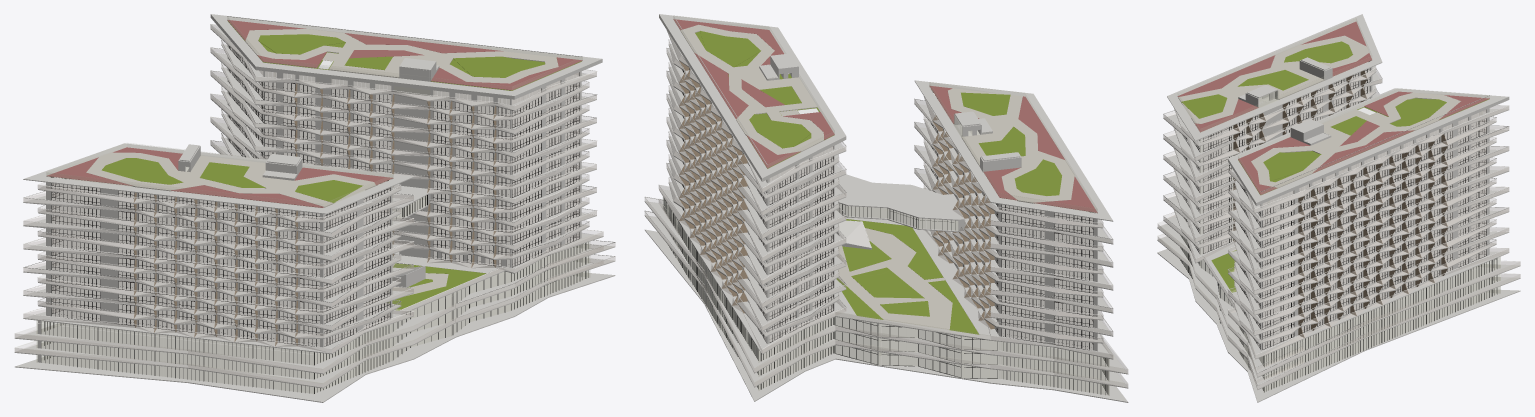
Rendered from rixos_Import3DFiles_Project_CopyFeatures.glb.
3 renders of one model, left to right at view 1: azimuth 30°, elevation 25°; view 2: azimuth 150°, elevation 25°; view 3: azimuth 270°, elevation 25°, orthographic. The views are drawn at different scales.
Parts seen in each view (by area): view 1: mesh_material_from_multipatch_4, mesh_material_from_multipatch_13, mesh_material_from_multipatch, mesh_material_from_multipatch_7, mesh_material_from_multipatch_5, mesh_material_from_multipatch_11, mesh_material_from_multipatch_12, mesh_material_from_multipatch_2, mesh_material_from_multipatch_10, mesh_material_from_multipatch_9, mesh_material_from_multipatch_6, mesh_material_from_multipatch_1; view 2: mesh_material_from_multipatch_4, mesh_material_from_multipatch_13, mesh_material_from_multipatch_12, mesh_material_from_multipatch_5, mesh_material_from_multipatch_2, mesh_material_from_multipatch, mesh_material_from_multipatch_9, mesh_material_from_multipatch_11, mesh_material_from_multipatch_7, mesh_material_from_multipatch_6, mesh_material_from_multipatch_10, mesh_material_from_multipatch_1; view 3: mesh_material_from_multipatch_4, mesh_material_from_multipatch_13, mesh_material_from_multipatch, mesh_material_from_multipatch_9, mesh_material_from_multipatch_7, mesh_material_from_multipatch_12, mesh_material_from_multipatch_11, mesh_material_from_multipatch_5, mesh_material_from_multipatch_2, mesh_material_from_multipatch_10, mesh_material_from_multipatch_6, mesh_material_from_multipatch_1.
Part boxes in pixels (box(x1,y1,x2,y2)): mesh_material_from_multipatch_4: box(14, 14, 615, 402); mesh_material_from_multipatch_13: box(14, 24, 615, 387); mesh_material_from_multipatch: box(52, 47, 579, 346); mesh_material_from_multipatch_7: box(51, 46, 579, 346); mesh_material_from_multipatch_5: box(41, 195, 588, 393); mesh_material_from_multipatch_11: box(23, 24, 615, 349); mesh_material_from_multipatch_12: box(86, 22, 581, 295); mesh_material_from_multipatch_2: box(102, 21, 581, 310); mesh_material_from_multipatch_10: box(46, 20, 582, 207); mesh_material_from_multipatch_9: box(133, 83, 496, 346); mesh_material_from_multipatch_6: box(41, 242, 588, 393); mesh_material_from_multipatch_1: box(15, 16, 589, 393); mesh_material_from_multipatch_4: box(644, 14, 1128, 402); mesh_material_from_multipatch_13: box(645, 33, 1128, 387); mesh_material_from_multipatch_12: box(680, 24, 1074, 334); mesh_material_from_multipatch_5: box(663, 198, 1108, 394); mesh_material_from_multipatch_2: box(695, 31, 1061, 334); mesh_material_from_multipatch: box(682, 71, 1093, 349); mesh_material_from_multipatch_9: box(679, 61, 994, 329); mesh_material_from_multipatch_11: box(644, 39, 1113, 354); mesh_material_from_multipatch_7: box(682, 68, 1093, 350); mesh_material_from_multipatch_6: box(663, 197, 1107, 394); mesh_material_from_multipatch_10: box(673, 19, 1097, 212); mesh_material_from_multipatch_1: box(662, 15, 1127, 395); mesh_material_from_multipatch_4: box(1157, 14, 1520, 402); mesh_material_from_multipatch_13: box(1157, 68, 1520, 388); mesh_material_from_multipatch: box(1183, 68, 1486, 349); mesh_material_from_multipatch_9: box(1233, 70, 1447, 337); mesh_material_from_multipatch_7: box(1182, 61, 1486, 349); mesh_material_from_multipatch_12: box(1178, 35, 1489, 286); mesh_material_from_multipatch_11: box(1163, 66, 1509, 385); mesh_material_from_multipatch_5: box(1180, 237, 1499, 391); mesh_material_from_multipatch_2: box(1181, 41, 1488, 292); mesh_material_from_multipatch_10: box(1177, 21, 1489, 194); mesh_material_from_multipatch_6: box(1180, 235, 1497, 392); mesh_material_from_multipatch_1: box(1157, 18, 1500, 392).
Bounding box in the file's own units: 213 × 87.15 × 141.
